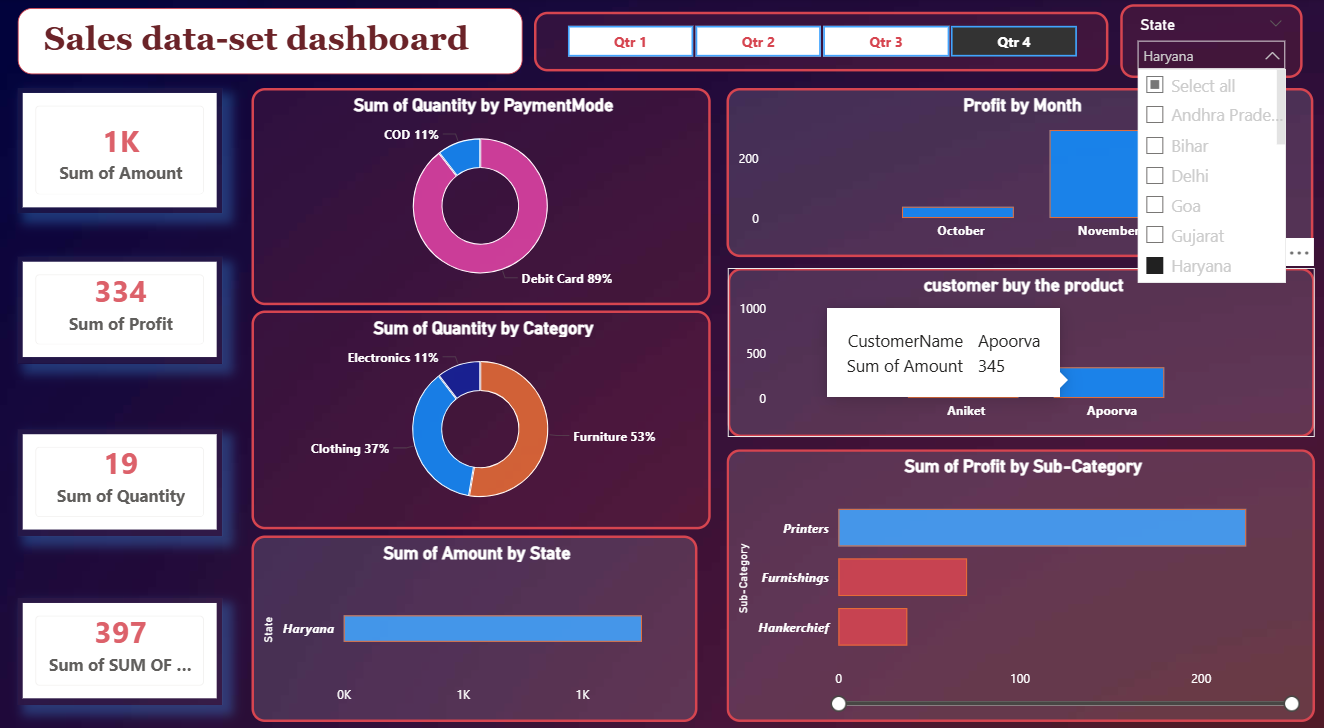

The page's visual inventory and layout, read from the dashboard file:
{"tool":"powerbi","page":{"name":"Page 1","canvas":[1280,720],"ordinal":0},"visuals":[{"type":"textbox","box":[18.1,9.7,487.4,63.9],"z":0},{"type":"columnChart","title":"Profit by Month","fields":{"Category":["Orders.Order Date.Variation.Date Hierarchy.Month"],"Y":["Sum(Details.Profit)"]},"box":[702.6,86.4,566.7,163.3],"z":1000},{"type":"columnChart","title":"customer buy the product","fields":{"Y":["Sum(Details.Amount)"],"Category":["Orders.CustomerName"]},"box":[703.9,260.7,566.7,163.3],"z":2000},{"type":"barChart","fields":{"Y":["Sum(Details.Profit)"],"Category":["Details.Sub-Category"]},"box":[702.6,435,568.1,263.5],"z":3000},{"type":"donutChart","fields":{"Category":["Details.Category"],"Y":["Sum(Details.Quantity)"]},"box":[244.3,301.9,443.2,211.3],"z":4000},{"type":"donutChart","fields":{"Y":["Sum(Details.Quantity)"],"Category":["Details.PaymentMode"]},"box":[244.3,86.4,443.2,209.9],"z":5000},{"type":"cardVisual","fields":{"Data":["Sum(Details.Amount)"]},"box":[17.8,86.4,197.6,120.8],"z":6000},{"type":"cardVisual","fields":{"Data":["Sum(Details.Profit)"]},"box":[17.8,249.7,197.6,102.9],"z":7000},{"type":"cardVisual","fields":{"Data":["Sum(Details.Quantity)"]},"box":[17.8,415.8,197.6,102.9],"z":8000},{"type":"cardVisual","fields":{"Data":["Sum(Details.SUM OF AVG)"]},"box":[17.8,579.1,197.6,102.9],"z":9000},{"type":"barChart","fields":{"Category":["Orders.State"],"Y":["Sum(Details.Amount)"]},"box":[243.7,518.8,430.7,179.8],"z":10000},{"type":"slicer","fields":{"Values":["Orders.Order Date.Variation.Date Hierarchy.Quarter"]},"box":[516,13.7,554.4,57.6],"z":11000},{"type":"slicer","fields":{"Values":["Orders.State"]},"box":[1082.7,5.5,175.6,71],"z":12000}]}

Visuals, with their boxes in screenshot pixels (x1, y1, x2, y2), scaled from the page's 1280x720 canvas onto the 1324x728 screenshot:
textbox: {"x1": 19, "y1": 10, "x2": 523, "y2": 74}
"Profit by Month" columnChart: {"x1": 727, "y1": 87, "x2": 1313, "y2": 252}
"customer buy the product" columnChart: {"x1": 728, "y1": 264, "x2": 1314, "y2": 429}
barChart - Sum(Details.Profit) x Details.Sub-Category: {"x1": 727, "y1": 440, "x2": 1314, "y2": 706}
donutChart - Details.Category x Sum(Details.Quantity): {"x1": 253, "y1": 305, "x2": 711, "y2": 519}
donutChart - Sum(Details.Quantity) x Details.PaymentMode: {"x1": 253, "y1": 87, "x2": 711, "y2": 300}
cardVisual - Sum(Details.Amount): {"x1": 18, "y1": 87, "x2": 223, "y2": 210}
cardVisual - Sum(Details.Profit): {"x1": 18, "y1": 252, "x2": 223, "y2": 357}
cardVisual - Sum(Details.Quantity): {"x1": 18, "y1": 420, "x2": 223, "y2": 524}
cardVisual - Sum(Details.SUM OF AVG): {"x1": 18, "y1": 586, "x2": 223, "y2": 690}
barChart - Orders.State x Sum(Details.Amount): {"x1": 252, "y1": 525, "x2": 698, "y2": 706}
slicer - Orders.Order Date.Variation.Date Hierarchy.Quarter: {"x1": 534, "y1": 14, "x2": 1107, "y2": 72}
slicer - Orders.State: {"x1": 1120, "y1": 6, "x2": 1302, "y2": 77}
